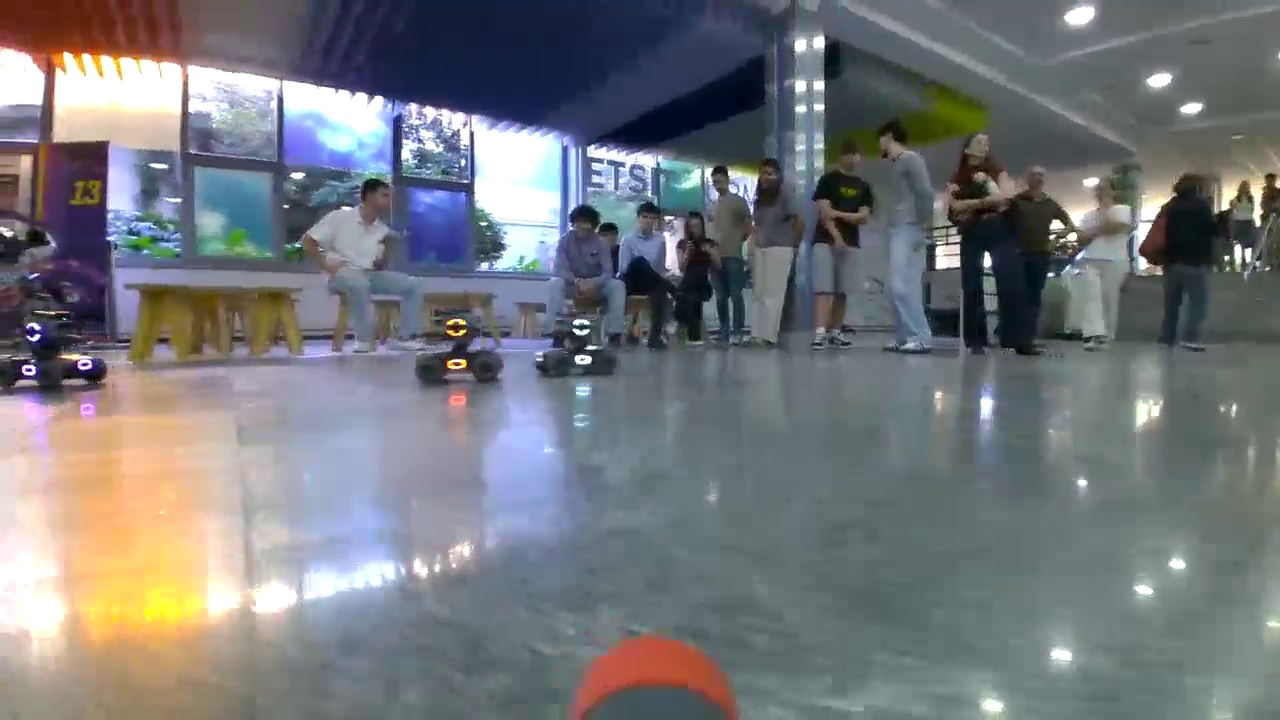robot: (1, 295, 108, 385), (415, 315, 500, 385), (535, 312, 617, 375)
